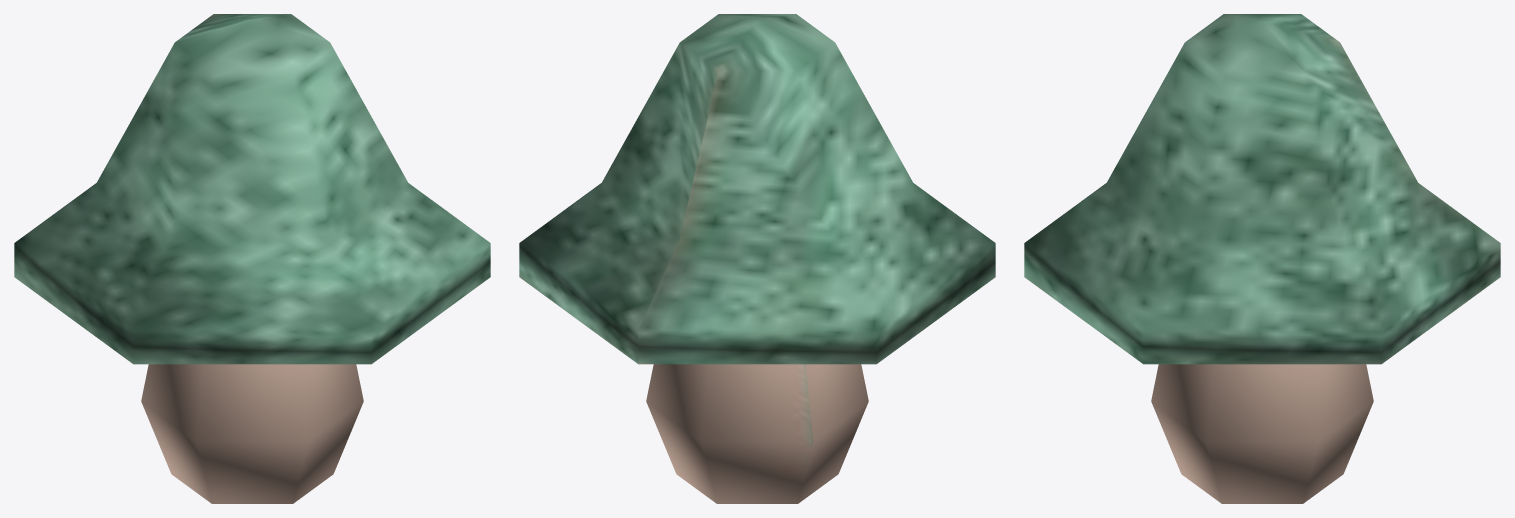
File: champi +.fbx
3 views of the same model, side by side, from view 1: azimuth 30°, elevation 25°; view 2: azimuth 150°, elevation 25°; view 3: azimuth 270°, elevation 25° (orthographic).
Parts seen in each view (by area): view 1: Cylinder.044, Cylinder.045; view 2: Cylinder.044, Cylinder.045; view 3: Cylinder.044, Cylinder.045.
Part boxes in pixels (bbox=[...]): Cylinder.044: bbox=[14, 14, 490, 364]; Cylinder.045: bbox=[141, 364, 363, 503]; Cylinder.044: bbox=[519, 14, 995, 364]; Cylinder.045: bbox=[646, 364, 868, 503]; Cylinder.044: bbox=[1024, 14, 1500, 364]; Cylinder.045: bbox=[1151, 364, 1373, 503].
Bounding box in the file's own units: 35.14 × 42.6 × 40.58.
